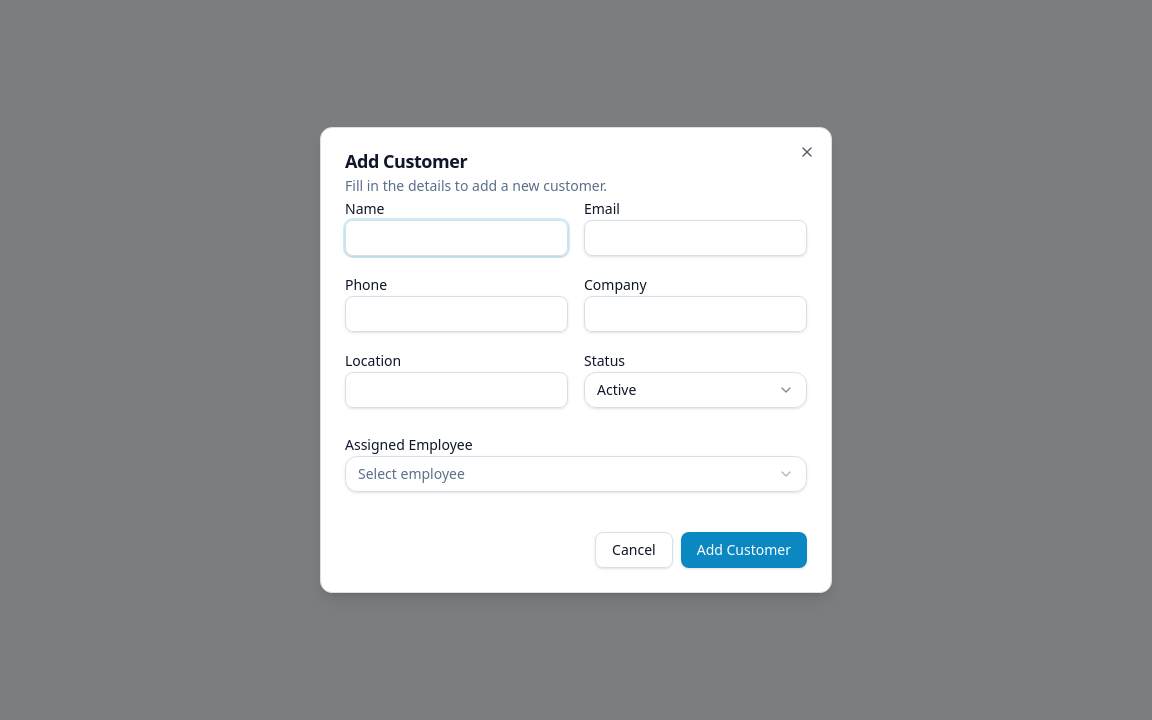
CustomerFormModal › shows validation errors for required fields
Step 1. Click the button "Add Customer" → x=744, y=550, box [681,532,807,568]
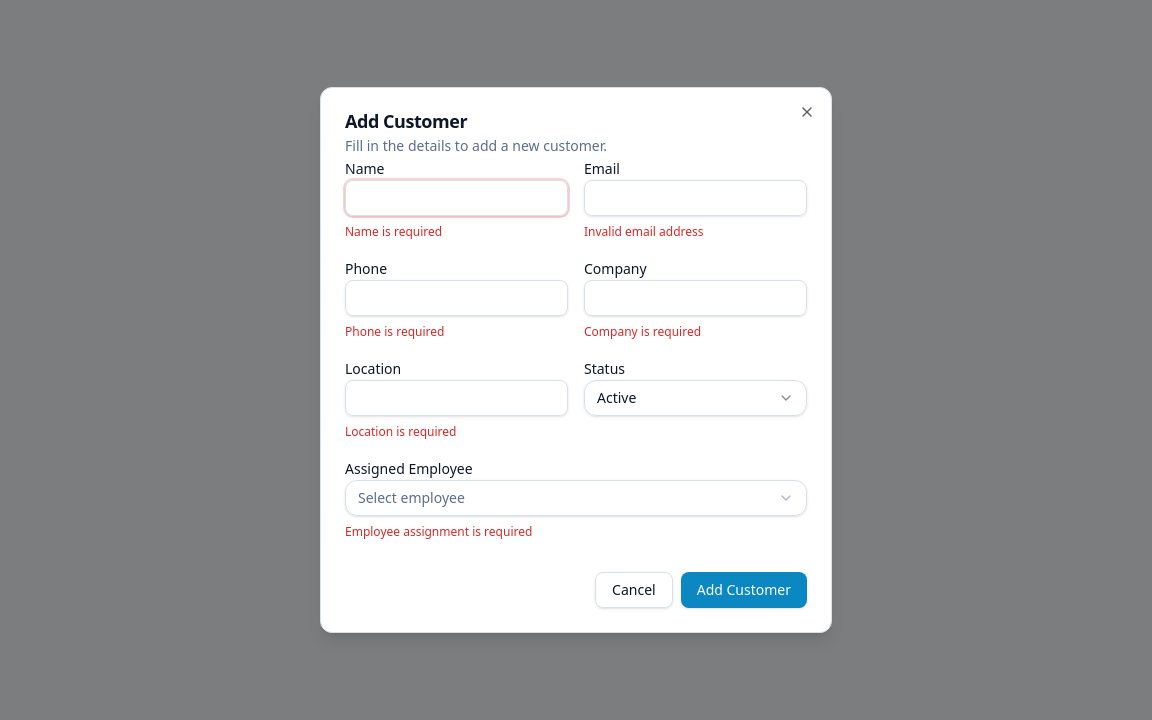
Now the text "Name is required" is shown, box [345,223,442,240]
Now the text "Phone is required" is shown, box [345,323,444,340]
Now the text "Company is required" is shown, box [584,323,701,340]
